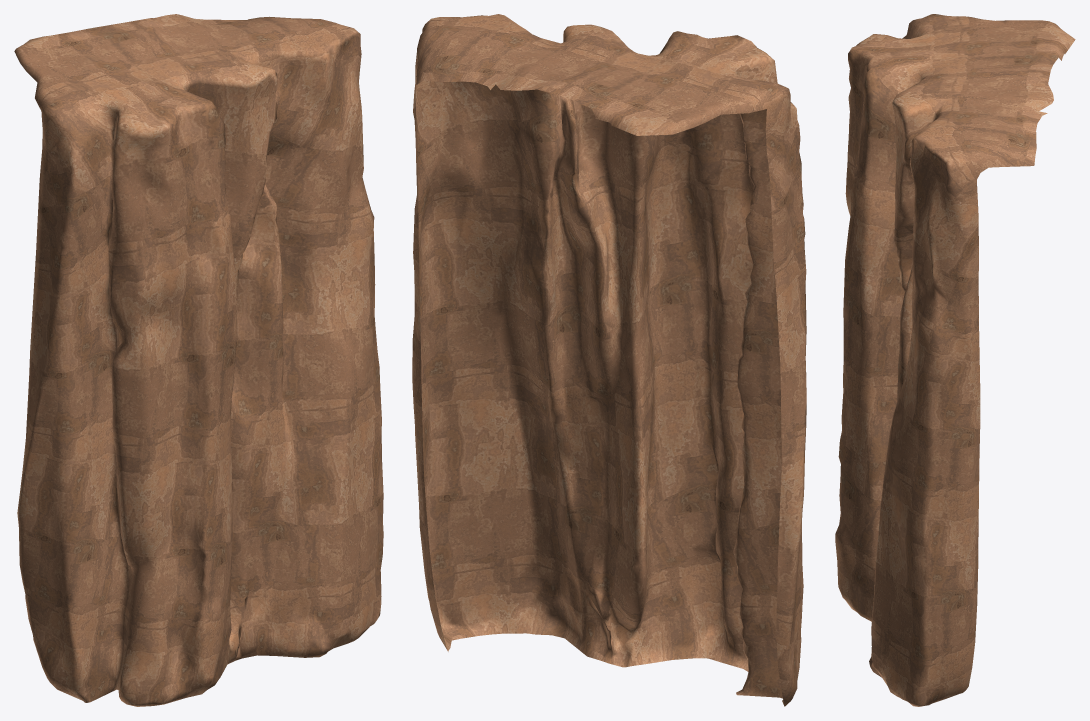
The model's file is Ob_RockCliff16.fbx.
The picture shows the model from 3 angles, left to right: view 1: azimuth 30°, elevation 25°; view 2: azimuth 150°, elevation 25°; view 3: azimuth 270°, elevation 25°; orthographic projection. The views are drawn at different scales.
Parts seen in each view (by area): view 1: Ob_RockCliff16; view 2: Ob_RockCliff16; view 3: Ob_RockCliff16.
Part boxes in pixels (box(x1,y1,x2,y2)): Ob_RockCliff16: box(14, 14, 383, 706); Ob_RockCliff16: box(412, 14, 806, 706); Ob_RockCliff16: box(835, 14, 1075, 706).
Bounding box in the file's own units: 30339 × 48622 × 18879.
